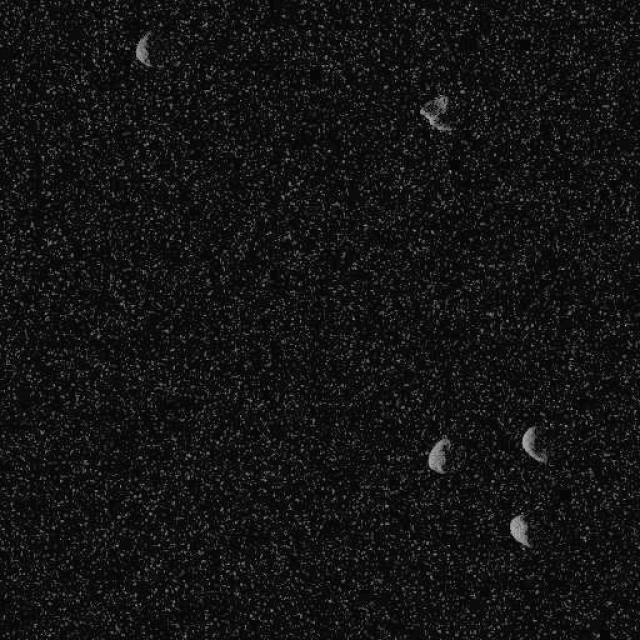D2: (418, 94, 454, 132), (520, 424, 548, 465), (427, 435, 452, 474), (508, 512, 532, 548), (134, 30, 152, 66)
